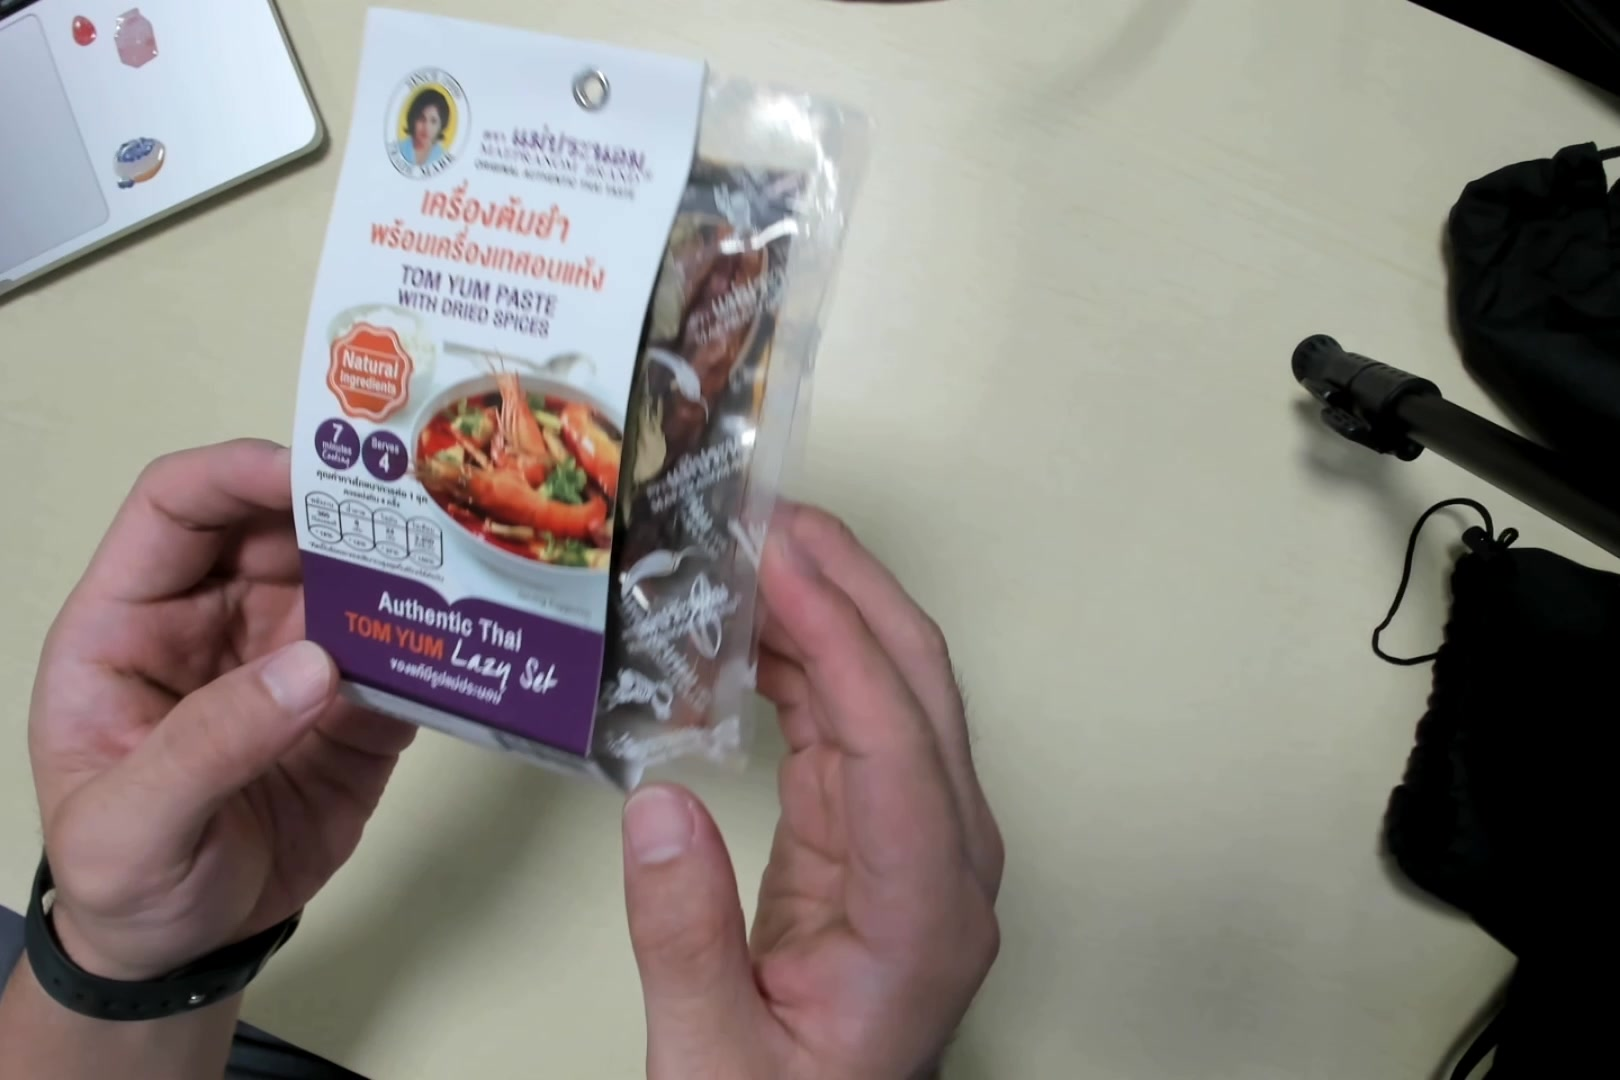OtherSauceDressingSoupBaswPaste_0-99g_Halal_NonHealthy: (298, 28, 803, 781)
